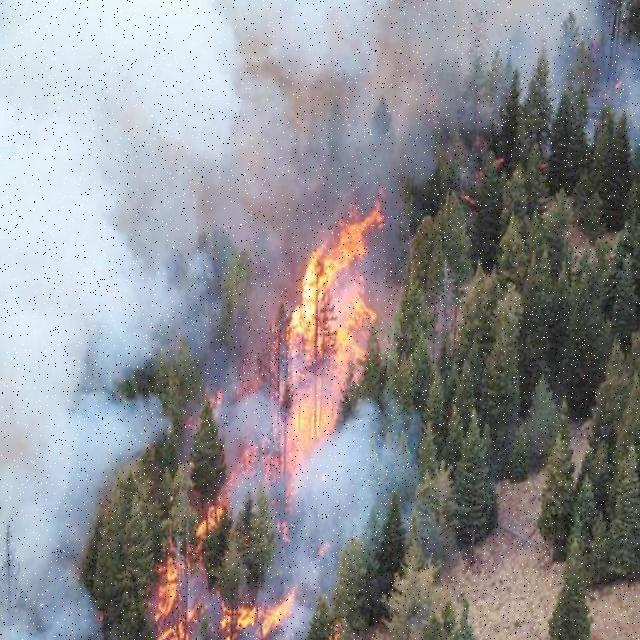fire: (282, 205, 382, 420), (157, 551, 181, 640), (233, 604, 286, 632)
smoke: (7, 27, 163, 537), (292, 438, 389, 558)
